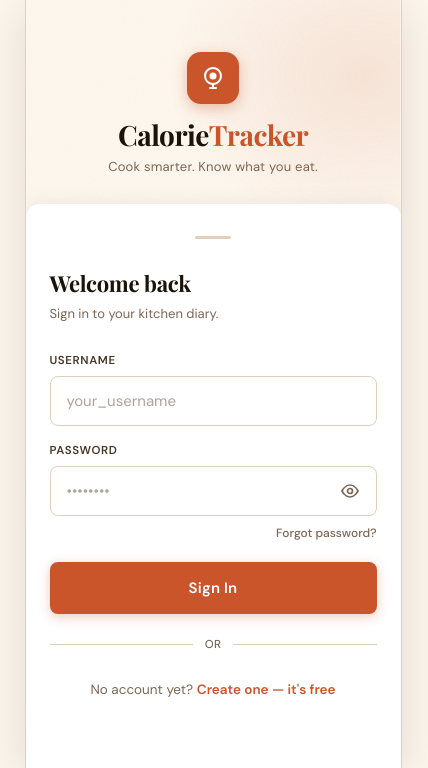
Test: LoginPage — validation › shows field errors when submitted empty
Click the button "Sign In".
click(213, 588)  # box [50,562,376,614]
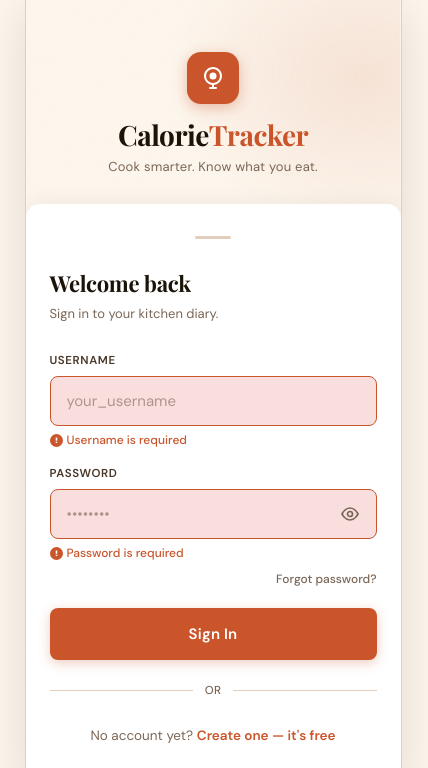
Check: the text "Username is required" is shown, box [50,432,187,448]
Check: the text "Password is required" is shown, box [50,545,184,561]
